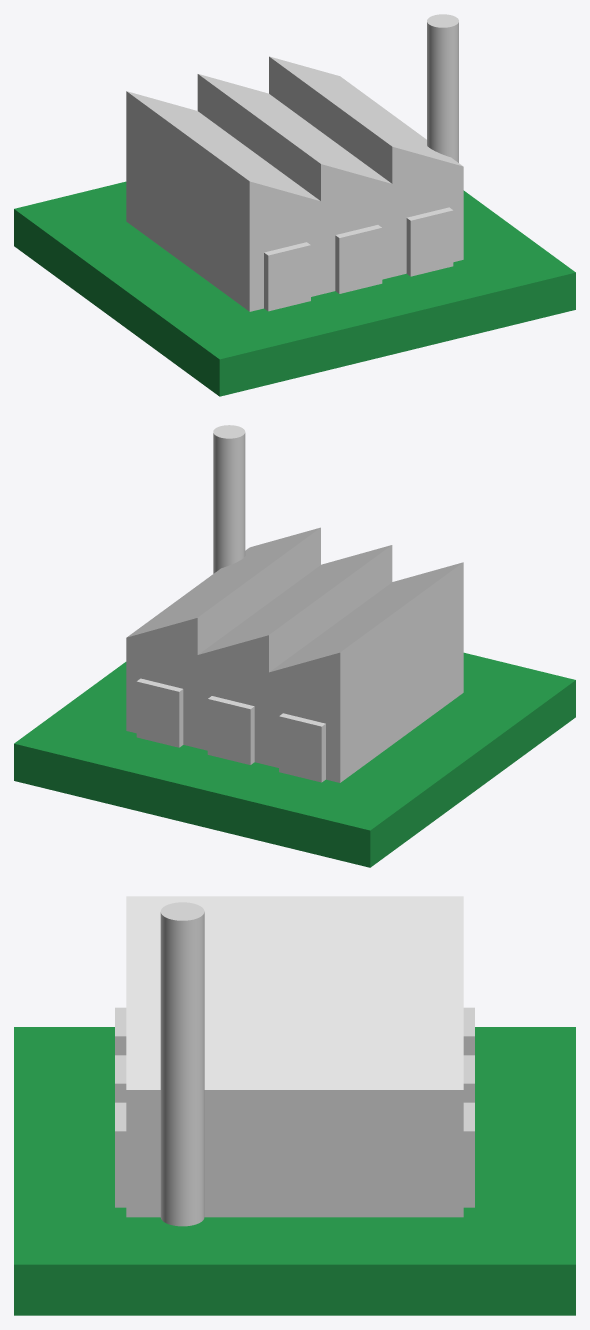
Rendered from Facility.fbx.
The picture shows the model from 3 angles, top to bottom: view 1: azimuth 30°, elevation 25°; view 2: azimuth 150°, elevation 25°; view 3: azimuth 270°, elevation 25°; orthographic projection. The views are drawn at different scales.
Parts seen in each view (by area): view 1: Building, Floor; view 2: Building, Floor; view 3: Building, Floor.
Boxes of the visible parts, left/top/right/bottom form: Building: left=126, top=14, right=463, bottom=311; Floor: left=14, top=181, right=575, bottom=396; Building: left=126, top=425, right=463, bottom=782; Floor: left=14, top=652, right=575, bottom=867; Building: left=115, top=896, right=474, bottom=1226; Floor: left=14, top=1027, right=575, bottom=1315.
Bounding box in the file's own units: 100 × 70 × 100.
